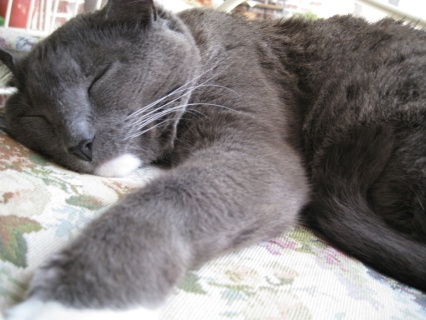Cat: (0, 0, 426, 311)
